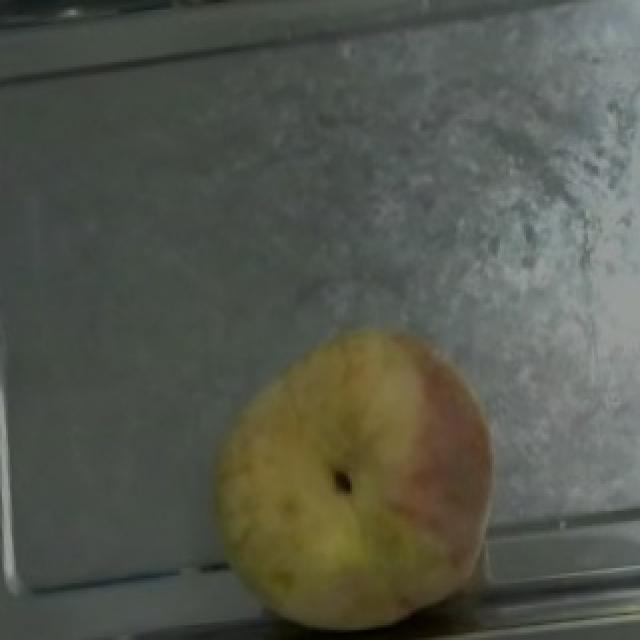Fruit: (182, 307, 522, 640)
